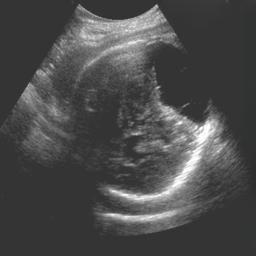abnormal: (59, 36, 219, 204)
